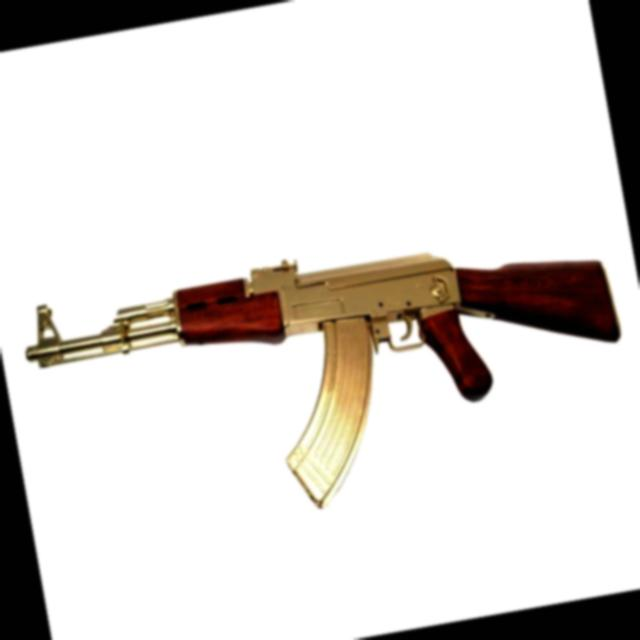ak: (14, 208, 640, 555)
